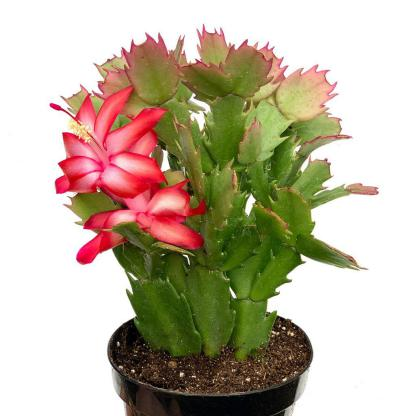Aglonema: (34, 16, 380, 370)
